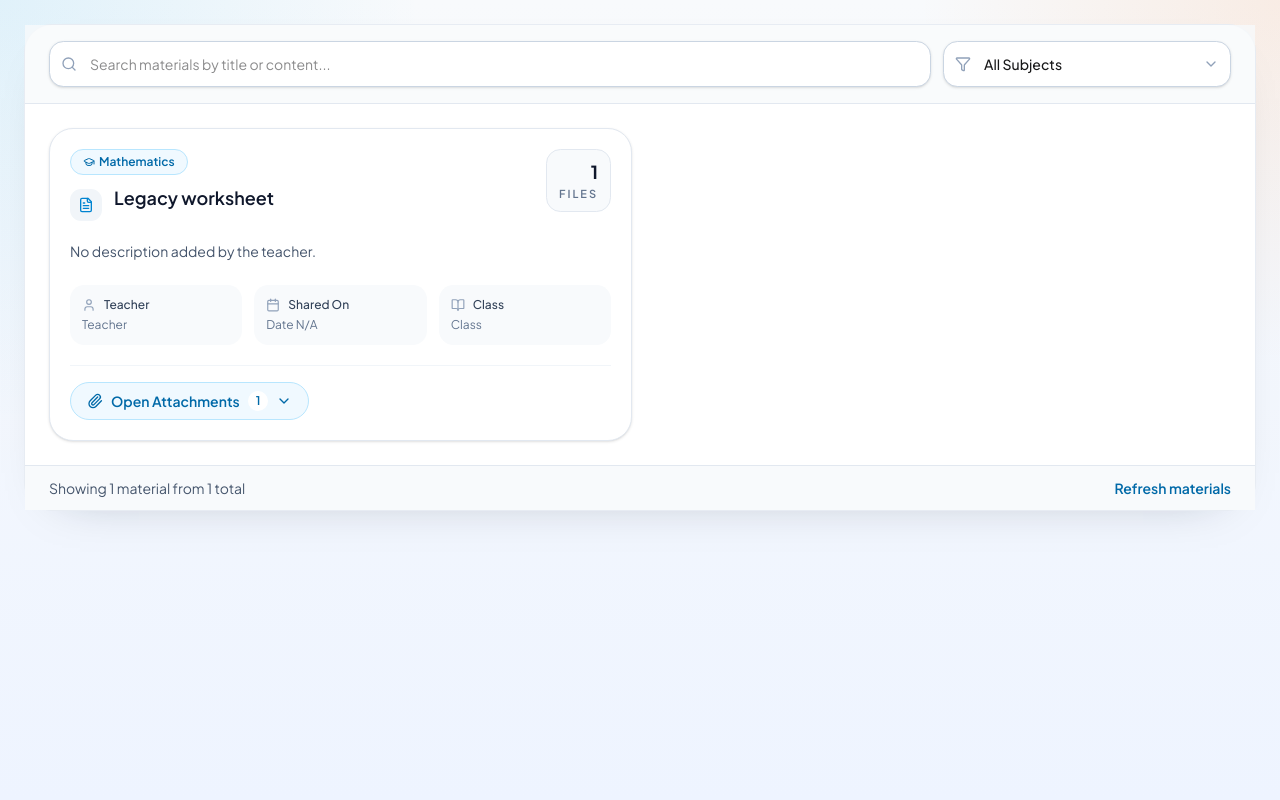
Test: StudyMaterials attachment safety › renders a local file reference as unavailable instead of a browser link
Expected: the text "Legacy worksheet" is shown, [114,187,274,210]
Step 1. Click the button "Open Attachments 1" → (190, 401), box [70,382,309,420]
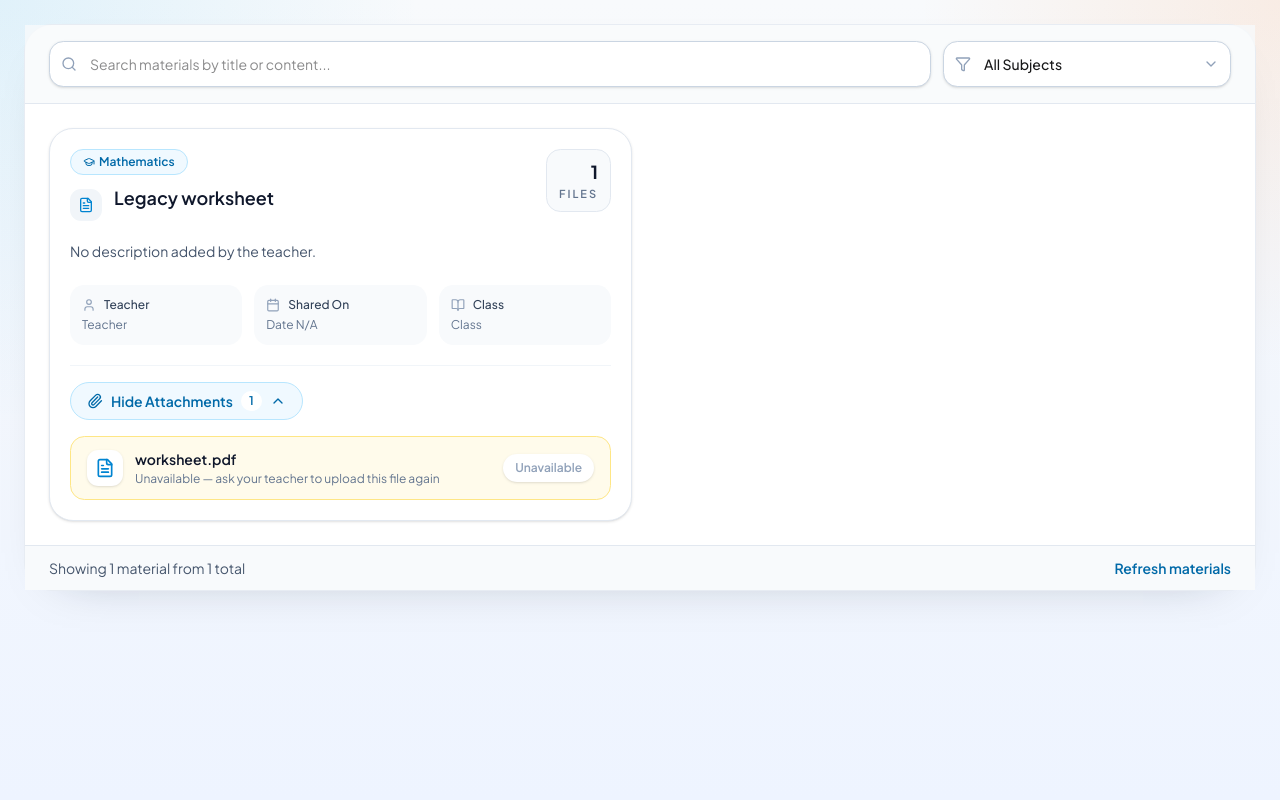
Result: the text "Unavailable" is shown at [503,454,594,482]
Result: the text "Unavailable — ask your teacher to upload this file again" is shown at [135,471,491,487]
